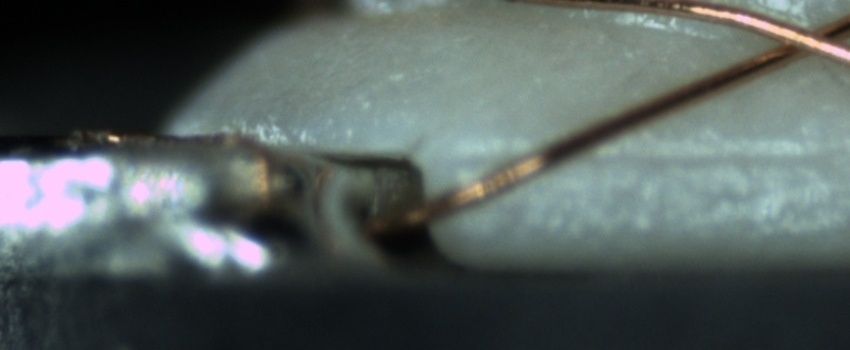CL: (750, 8, 849, 67)
DL: (456, 125, 847, 194)
TE: (79, 122, 278, 214)
